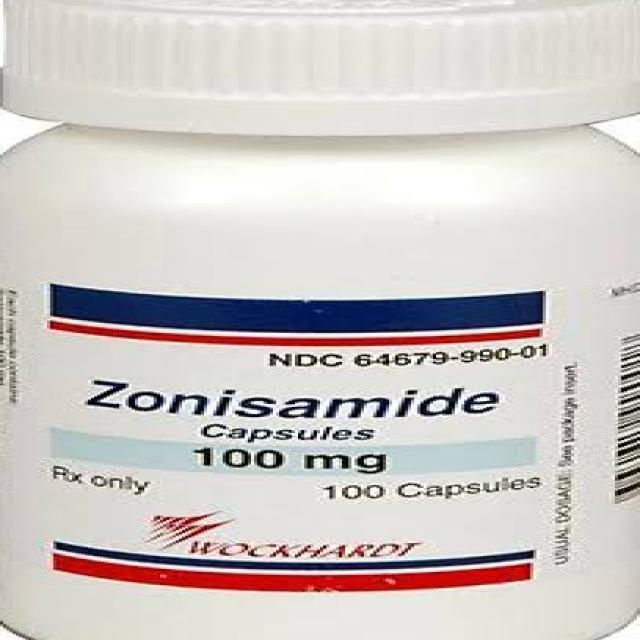drug-name: (82, 376, 522, 426)
